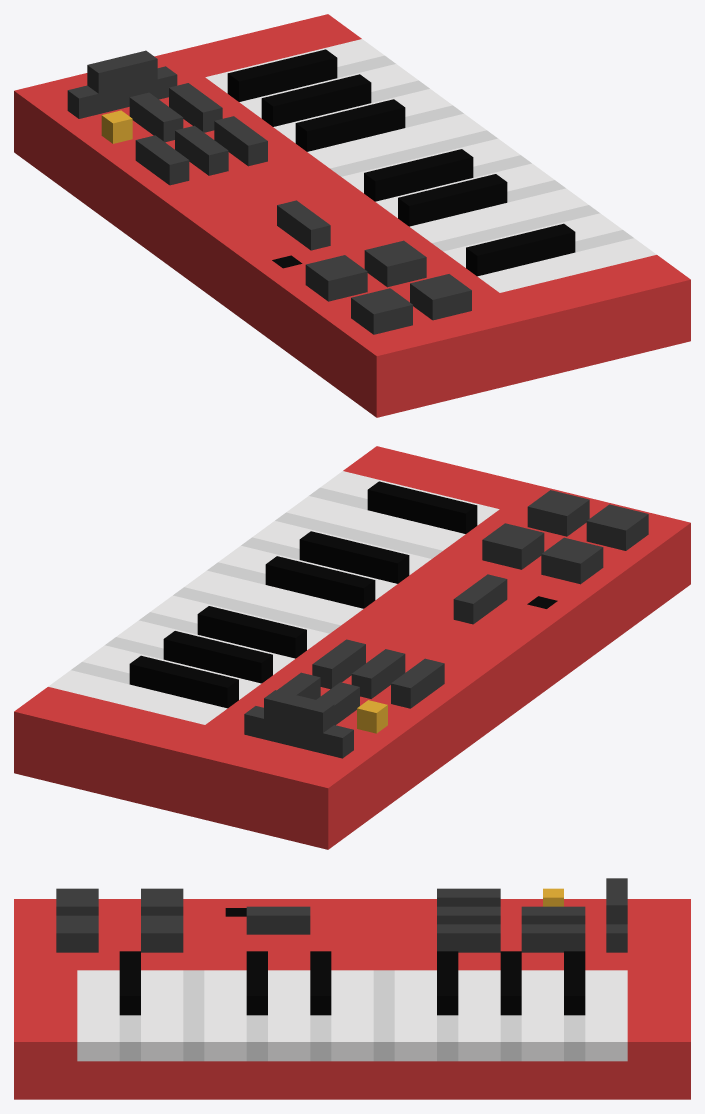
Rendered from the_power.gltf.
3 renders of one model, top to bottom at view 1: azimuth 30°, elevation 25°; view 2: azimuth 150°, elevation 25°; view 3: azimuth 270°, elevation 25°, orthographic. The views are drawn at different scales.
Visible parts, largest first — view 1: Base, Key05 (×2), Key06 (×2), Key04 (×2), Key01, Key07, Key09, Key11, Key02, Key03, Key08, Key12 (+1 smaller); view 2: Base, Key05 (×2), Key06 (×2), Key12, Key03, Key02, Key11, Key09, Key07, Key04 (×2), Key10, Key01 (+1 smaller); view 3: Base, Key04 (×2), Key06 (×2), Key01, Key08, Key12, Key03, Key10, Key05 (×2), Key02, Key07, Key09 (+1 smaller).
Boxes of the visible parts, left/top/right/bottom form: Base: left=14, top=14, right=690, bottom=417; Key05 (×2): left=364, top=149, right=507, bottom=226; Key06 (×2): left=307, top=113, right=520, bottom=193; Key04 (×2): left=375, top=163, right=588, bottom=242; Key01: left=477, top=238, right=656, bottom=292; Key07: left=295, top=99, right=405, bottom=151; Key09: left=261, top=74, right=371, bottom=126; Key11: left=227, top=49, right=337, bottom=101; Key02: left=466, top=223, right=575, bottom=276; Key03: left=443, top=213, right=622, bottom=267; Key08: left=273, top=89, right=452, bottom=143; Key12: left=205, top=39, right=384, bottom=93; Base: left=14, top=446, right=690, bottom=849; Key05 (×2): left=265, top=531, right=409, bottom=608; Key06 (×2): left=150, top=570, right=363, bottom=649; Key12: left=48, top=670, right=227, bottom=724; Key03: left=286, top=496, right=465, bottom=550; Key02: left=367, top=481, right=477, bottom=533; Key11: left=129, top=655, right=238, bottom=708; Key09: left=163, top=631, right=272, bottom=683; Key07: left=197, top=606, right=306, bottom=658; Key04 (×2): left=218, top=521, right=431, bottom=599; Key10: left=82, top=645, right=261, bottom=699; Key01: left=320, top=471, right=499, bottom=525; Base: left=14, top=878, right=690, bottom=1099; Key04 (×2): left=204, top=970, right=310, bottom=1061; Key06 (×2): left=331, top=970, right=436, bottom=1061; Key01: left=77, top=970, right=119, bottom=1061; Key08: left=458, top=970, right=500, bottom=1061; Key12: left=585, top=970, right=627, bottom=1061; Key03: left=141, top=970, right=183, bottom=1061; Key10: left=521, top=970, right=563, bottom=1061; Key05 (×2): left=246, top=951, right=331, bottom=1015; Key02: left=119, top=951, right=140, bottom=1015; Key07: left=437, top=951, right=458, bottom=1015; Key09: left=500, top=951, right=521, bottom=1015.
Size of the model in its own units: 16 by 5 by 32.
1 material, 1 textured.
